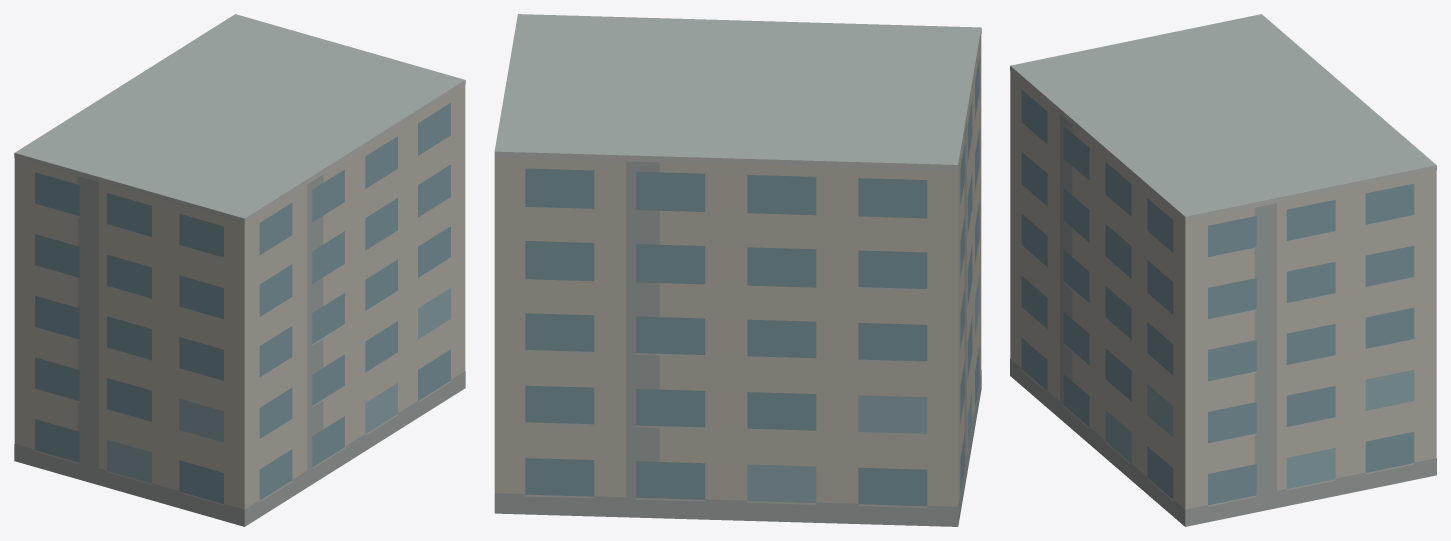
Rendered from survey-upis-32731894.glb.
3 views of the same model, side by side, from view 1: azimuth 30°, elevation 25°; view 2: azimuth 150°, elevation 25°; view 3: azimuth 270°, elevation 25° (orthographic). The views are drawn at different scales.
Parts seen in each view (by area): view 1: survey-upis-32731894.tmp; view 2: survey-upis-32731894.tmp; view 3: survey-upis-32731894.tmp.
Part boxes in pixels (bbox=[...]): survey-upis-32731894.tmp: bbox=[14, 14, 465, 526]; survey-upis-32731894.tmp: bbox=[494, 14, 981, 526]; survey-upis-32731894.tmp: bbox=[1010, 14, 1436, 526].
Size of the model in its own units: 20.19 by 14.4 by 17.96.
